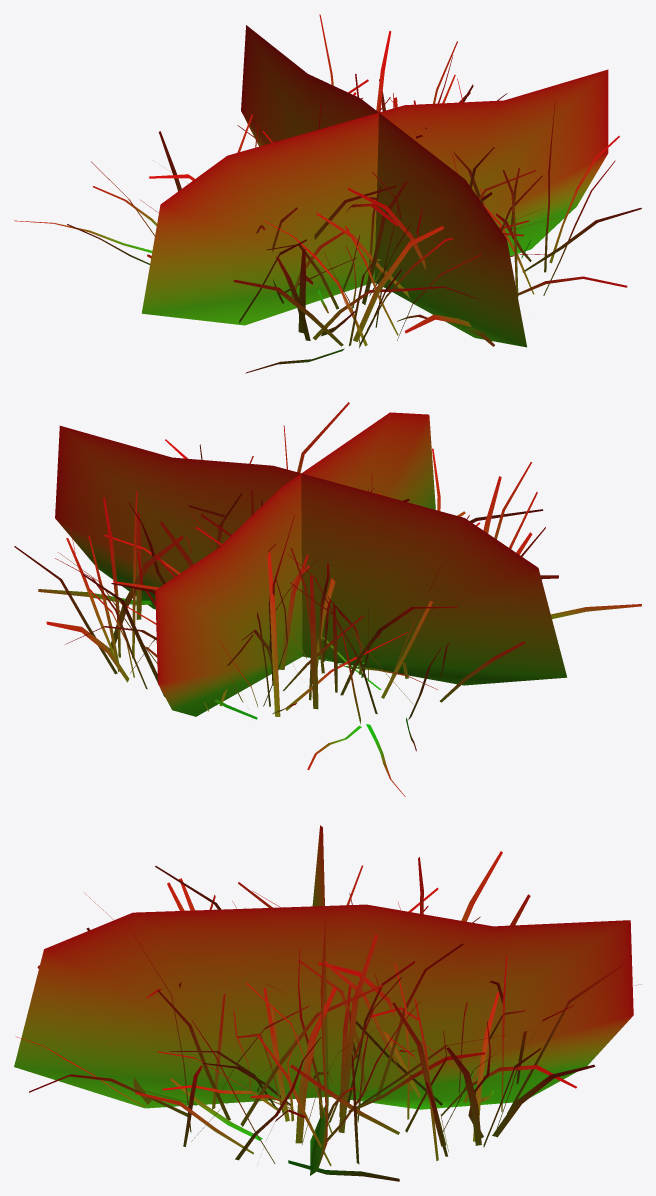
File: vegetation_20.fbx
3 views of the same model, one above another, from view 1: azimuth 30°, elevation 25°; view 2: azimuth 150°, elevation 25°; view 3: azimuth 270°, elevation 25° (orthographic). The views are drawn at different scales.
Visible parts, largest first — view 1: _vpqz_Var19_; view 2: _vpqz_Var19_; view 3: _vpqz_Var19_.
Part boxes in pixels (x1,y1,x2,y2): _vpqz_Var19_: (14, 14, 641, 373); _vpqz_Var19_: (14, 402, 641, 796); _vpqz_Var19_: (14, 825, 641, 1181).
Bounding box in the file's own units: 44.62 × 15.73 × 45.06.
